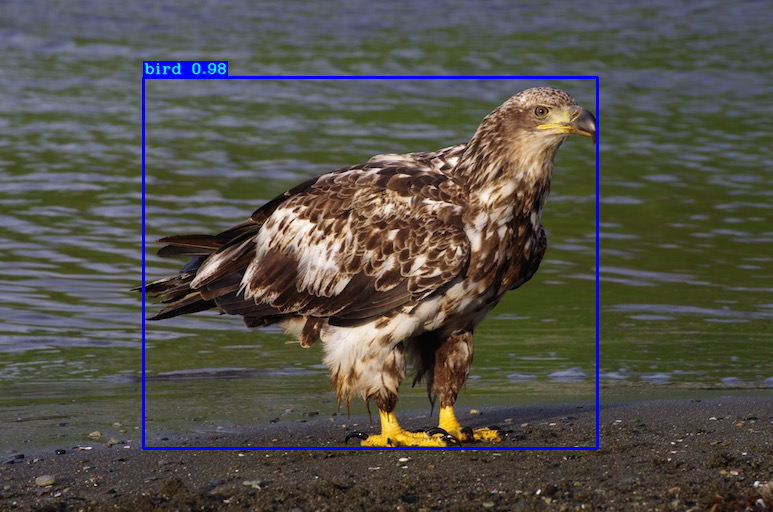bird: (143, 77, 597, 448)
